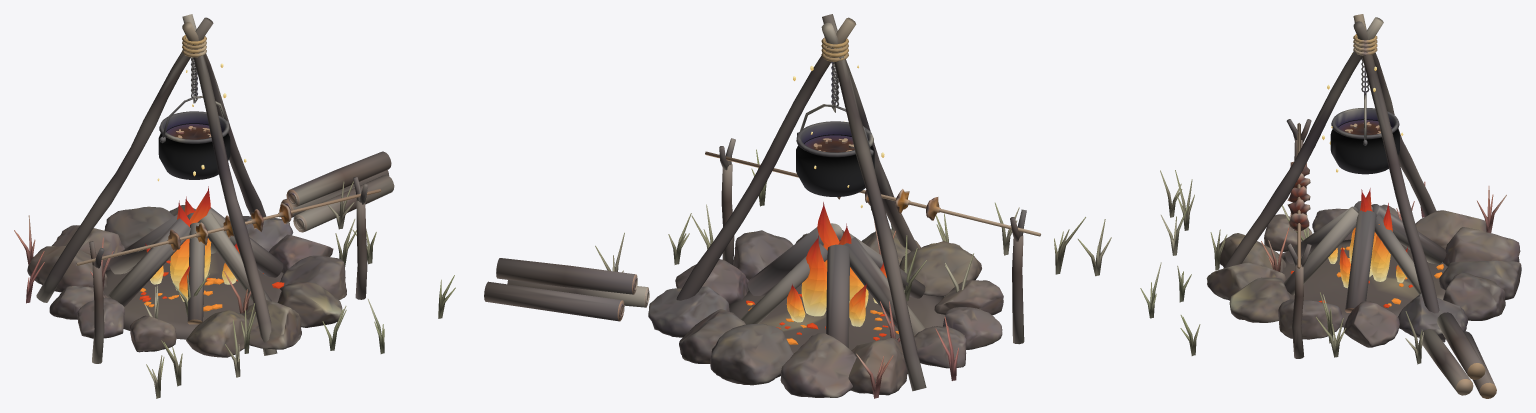
File: kamp_ates.glb
The picture shows the model from 3 angles, left to right: view 1: azimuth 30°, elevation 25°; view 2: azimuth 150°, elevation 25°; view 3: azimuth 270°, elevation 25°; orthographic projection. The views are drawn at different scales.
Parts seen in each view (by area): view 1: kamp_ates_LOD0; view 2: kamp_ates_LOD0; view 3: kamp_ates_LOD0.
Part boxes in pixels (x1=…): kamp_ates_LOD0: x1=14, y1=14, x2=455, y2=398; kamp_ates_LOD0: x1=484, y1=14, x2=1111, y2=398; kamp_ates_LOD0: x1=1140, y1=14, x2=1521, y2=398.
Size of what is drawn, in the model's own units: 3.07 by 2.08 by 2.59.
